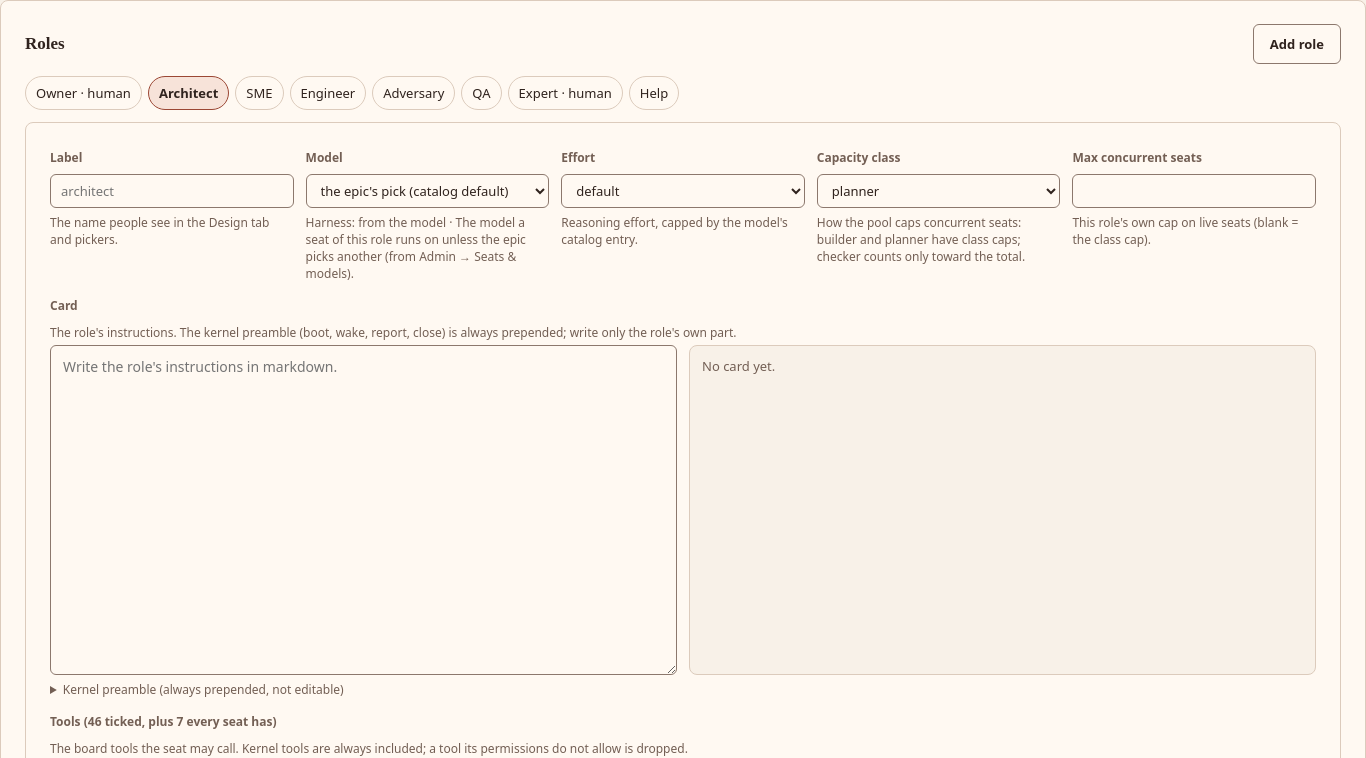
Test case: role panel › Add role from the checker template: id, label and spawner land in the draft
Click the button with test id "role-add-open" at (1297,44), box [1253, 24, 1341, 64]
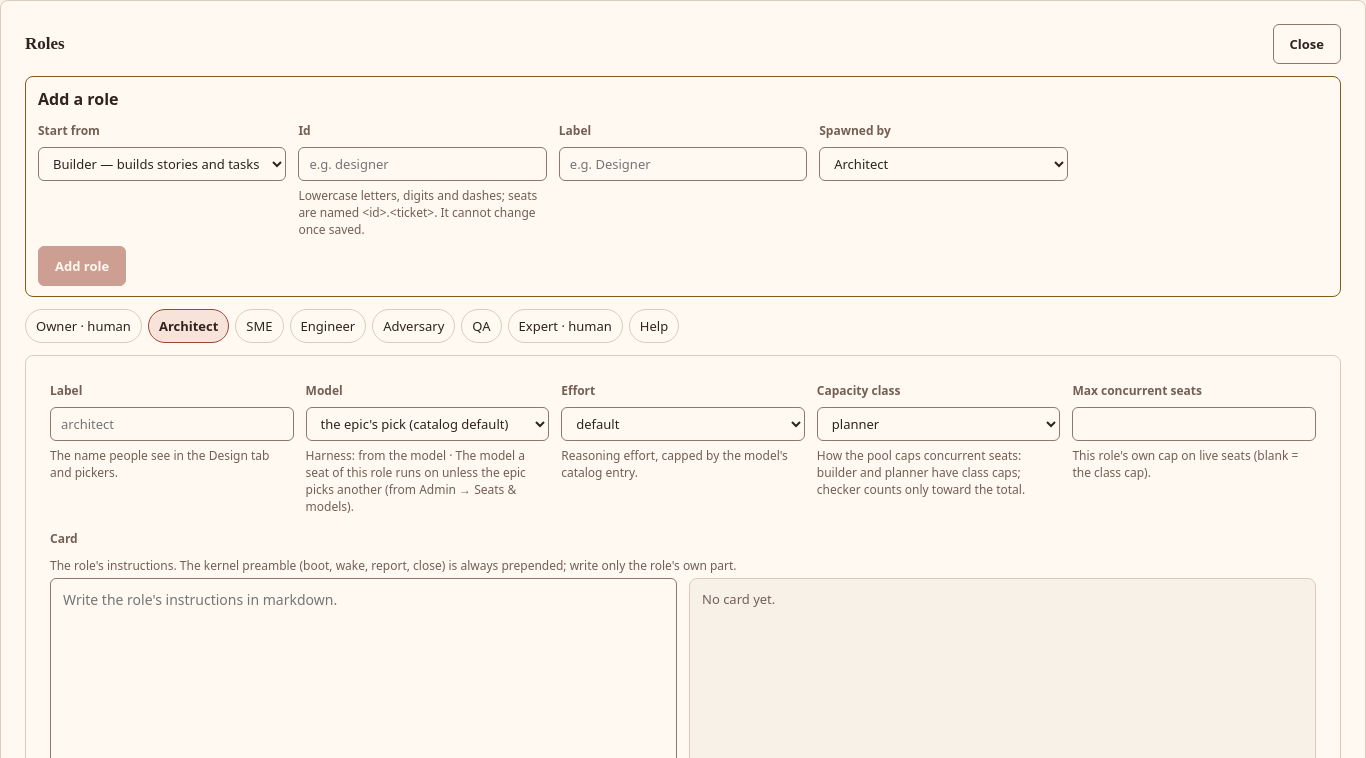
Select "Checker — verdicts criteria it did not build" in the dropdown with test id "role-add-template" at (162,164), box [38, 147, 286, 181]
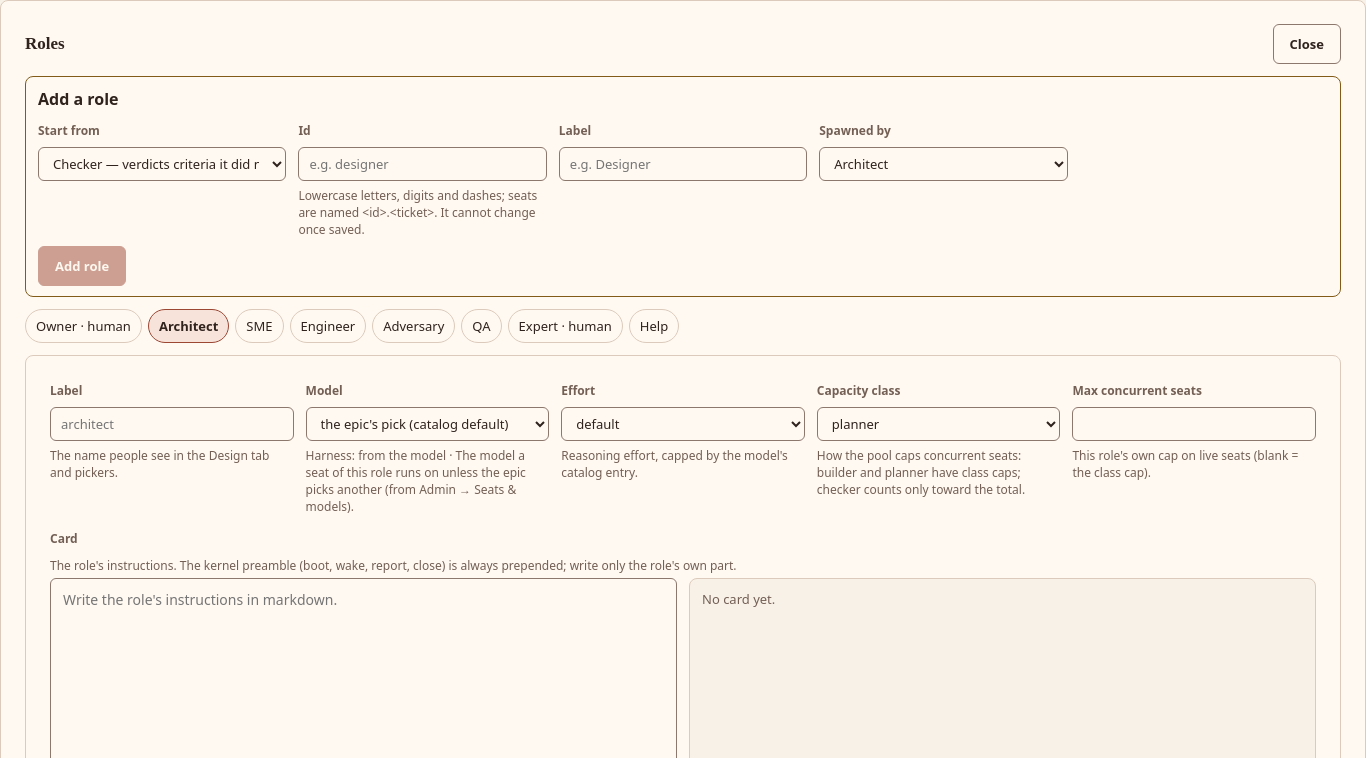
Type "auditor" into the field with test id "role-add-id" at (423,164), box [298, 147, 547, 181]
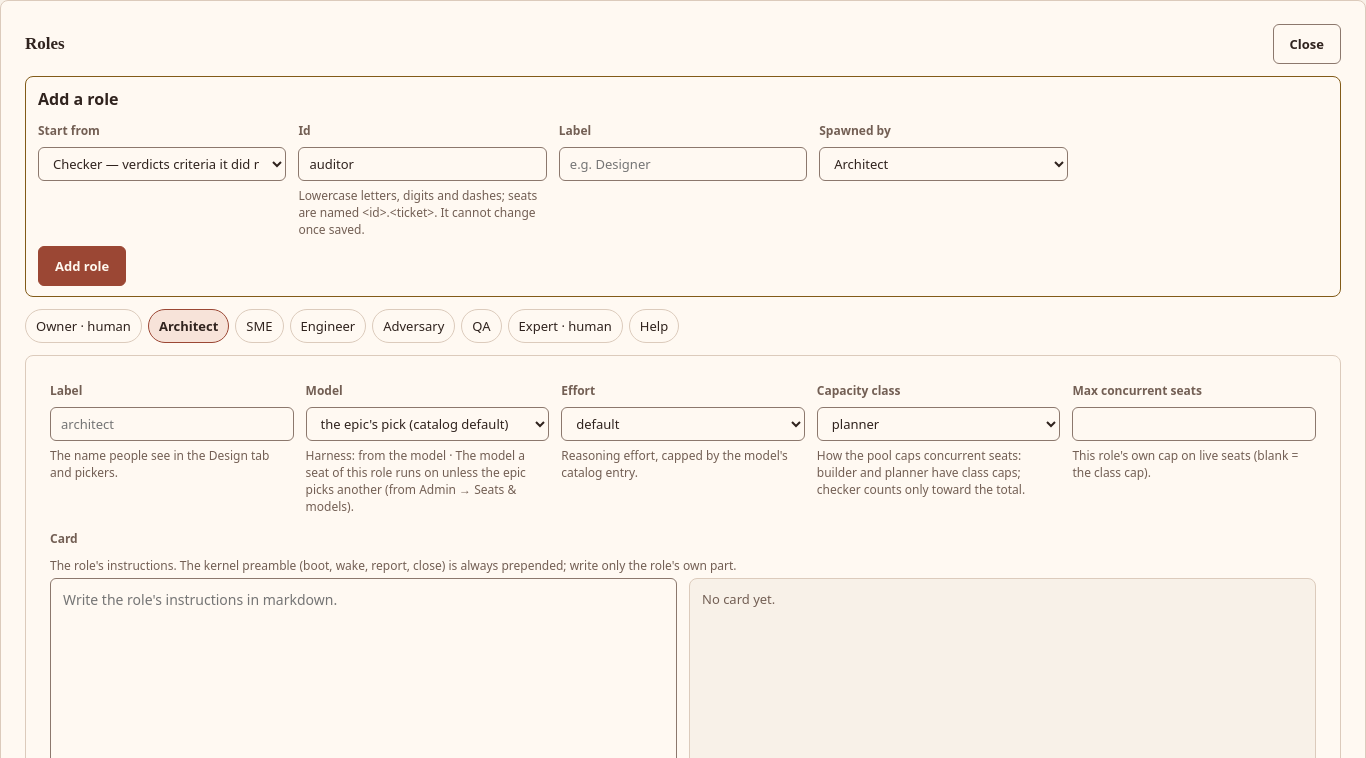
Type "Auditor" into the field with test id "role-add-label" at (683,164), box [559, 147, 807, 181]
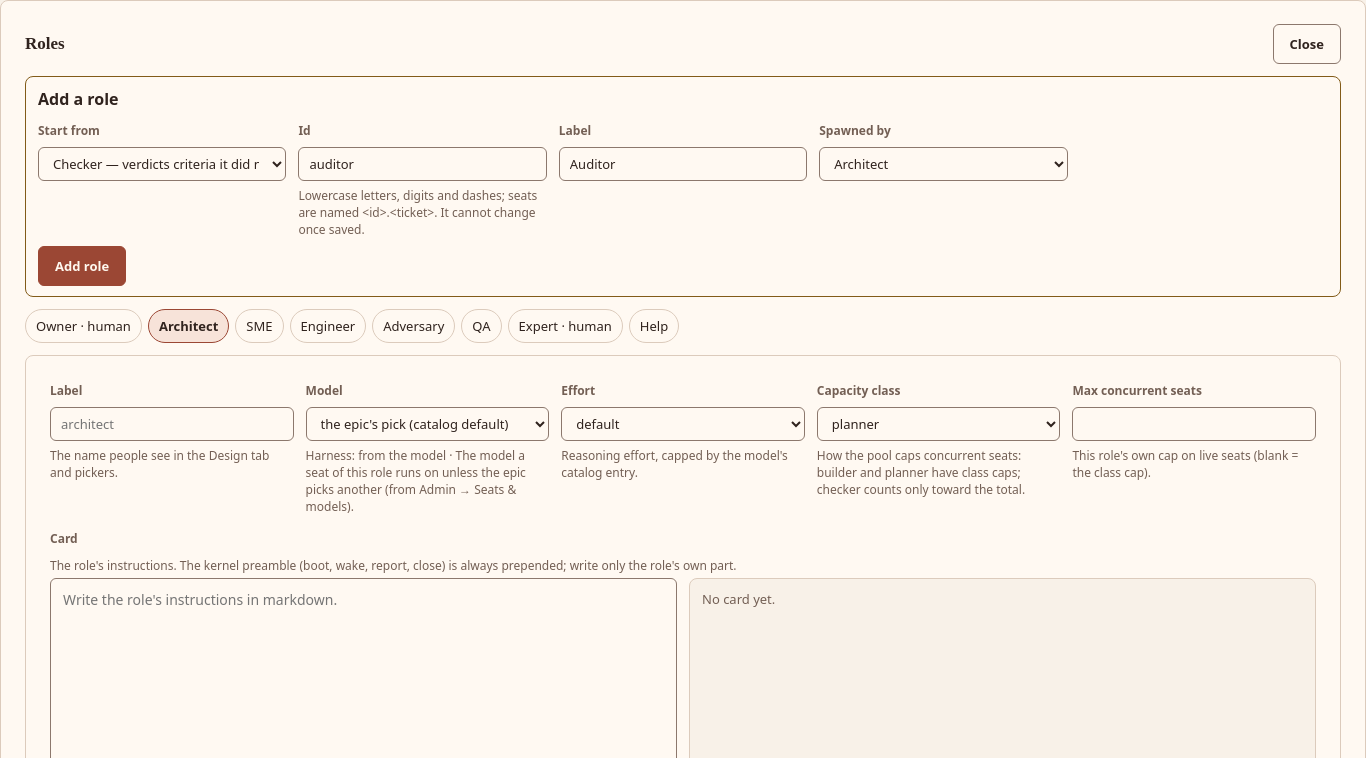
Select "Architect" in the dropdown with test id "role-add-spawner" at (943,164), box [819, 147, 1068, 181]
Click the button with test id "role-add-save" at (82,266), box [38, 246, 126, 286]
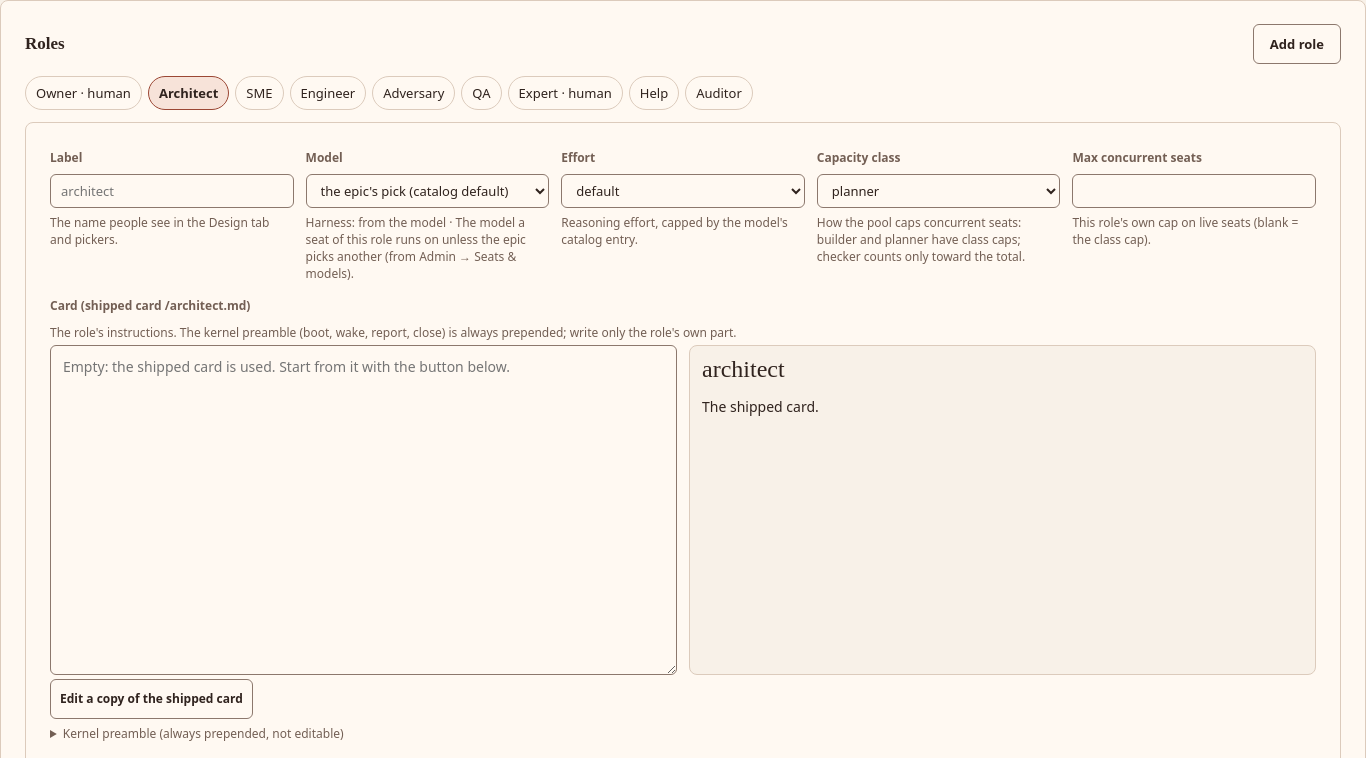
Result: the tab "Auditor" is shown at [685, 76, 753, 110]
